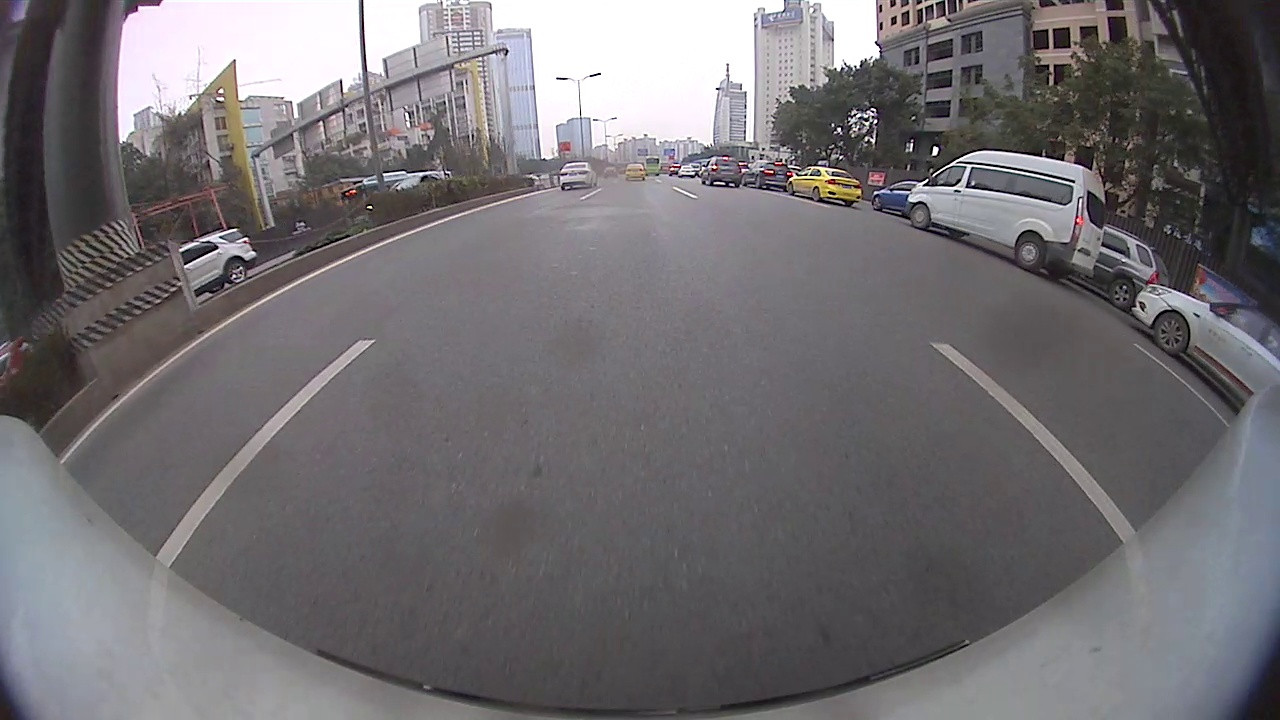bus: (342, 170, 450, 216)
car: (907, 149, 1106, 276), (1133, 283, 1276, 409), (1091, 226, 1169, 309), (177, 228, 255, 294), (786, 163, 864, 207), (872, 181, 920, 217), (700, 154, 741, 188), (744, 160, 792, 189), (558, 161, 599, 189), (387, 175, 450, 193)
front: (1152, 309, 1190, 356), (907, 204, 934, 232), (873, 194, 883, 214)
rear: (1015, 236, 1045, 270), (1107, 277, 1135, 313), (223, 258, 250, 285)
